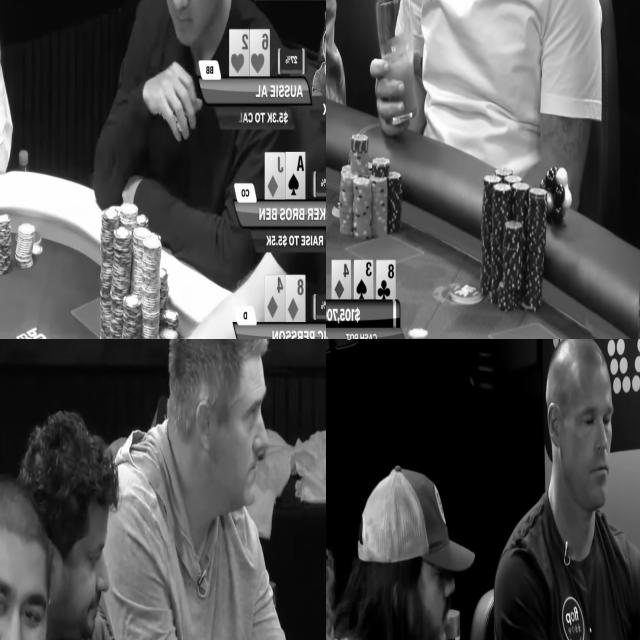2H: (230, 29, 249, 76)
3S: (355, 261, 372, 299)
4D: (265, 276, 284, 323), (332, 260, 350, 299)
6H: (250, 30, 270, 75)
8C: (377, 261, 395, 299)
8D: (286, 276, 306, 322)
AS: (285, 152, 305, 200)
JD: (264, 153, 284, 200)
